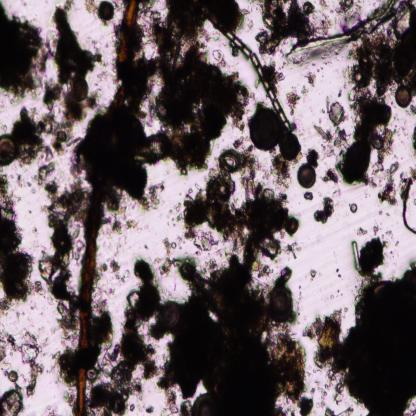Air bubble: (70, 79, 89, 100)
Background material: (162, 241, 316, 415), (305, 264, 416, 415), (155, 0, 249, 168), (181, 148, 304, 266), (90, 258, 160, 415), (72, 113, 162, 214), (10, 83, 79, 167), (42, 175, 83, 315), (329, 96, 394, 184), (352, 8, 416, 94), (0, 174, 40, 301), (0, 2, 53, 93), (48, 0, 104, 79), (0, 321, 45, 414), (256, 0, 328, 49), (126, 25, 164, 112), (345, 226, 390, 280), (91, 297, 114, 356), (50, 348, 78, 388), (401, 165, 416, 238), (380, 161, 400, 205), (271, 155, 295, 187), (97, 259, 129, 283), (314, 196, 336, 226), (40, 156, 58, 189), (336, 2, 360, 25), (263, 63, 283, 90), (163, 198, 181, 228), (71, 96, 101, 113), (284, 94, 300, 117), (304, 148, 321, 166), (300, 70, 317, 86), (308, 262, 319, 284), (322, 168, 338, 183), (411, 125, 416, 155), (302, 190, 314, 201), (348, 202, 359, 214)
Cellulose filter fibre: (291, 1, 398, 53)
Diatom: (75, 0, 141, 415), (225, 30, 292, 130), (248, 106, 280, 150), (139, 132, 168, 162), (270, 287, 293, 320), (160, 301, 182, 329), (0, 134, 17, 166), (296, 164, 316, 188), (280, 135, 300, 159), (220, 152, 238, 174), (97, 0, 115, 22), (395, 86, 411, 107), (313, 125, 330, 141), (87, 368, 98, 382), (335, 383, 344, 394)
